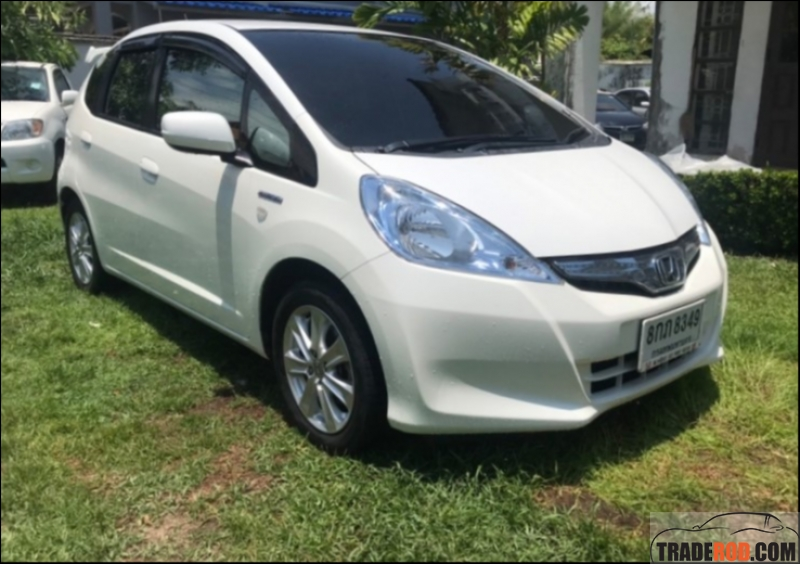sedan: (53, 18, 732, 456)
